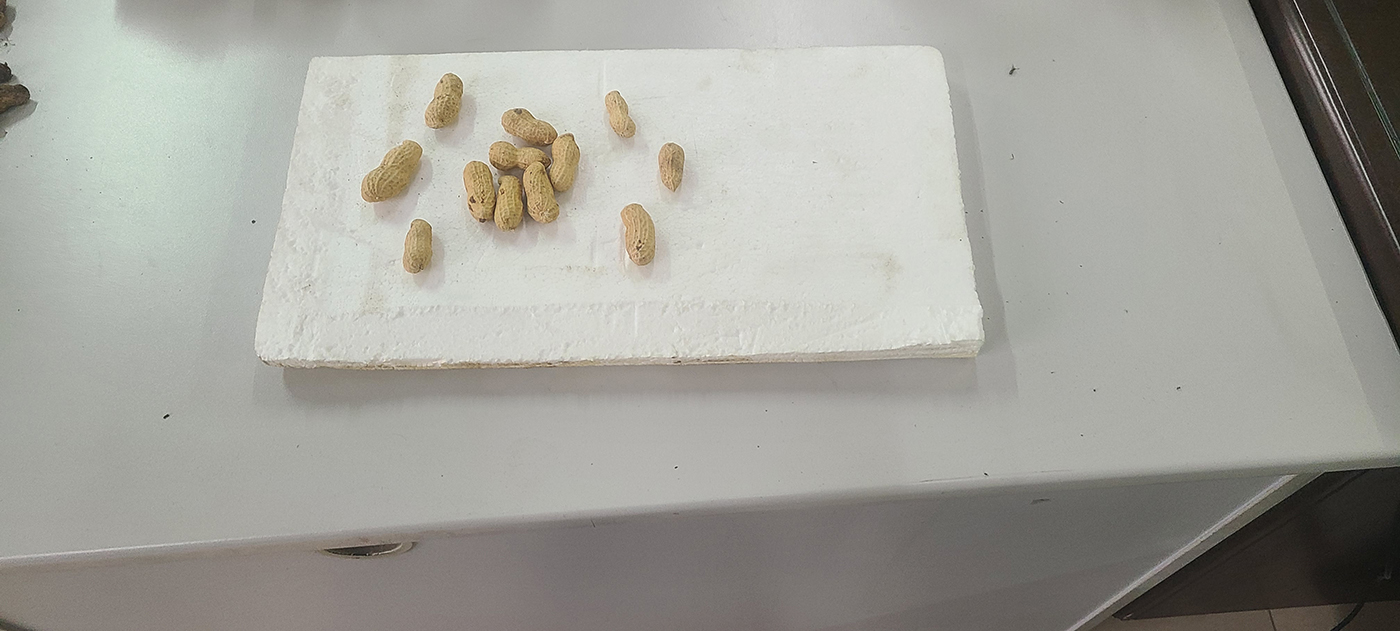h: (361, 139, 422, 203), (424, 72, 464, 129), (621, 202, 656, 266), (502, 106, 558, 146), (524, 161, 560, 223), (462, 161, 496, 221), (549, 132, 582, 188), (488, 141, 552, 168), (494, 174, 524, 230), (403, 219, 433, 273), (605, 90, 635, 137), (659, 143, 685, 191)
